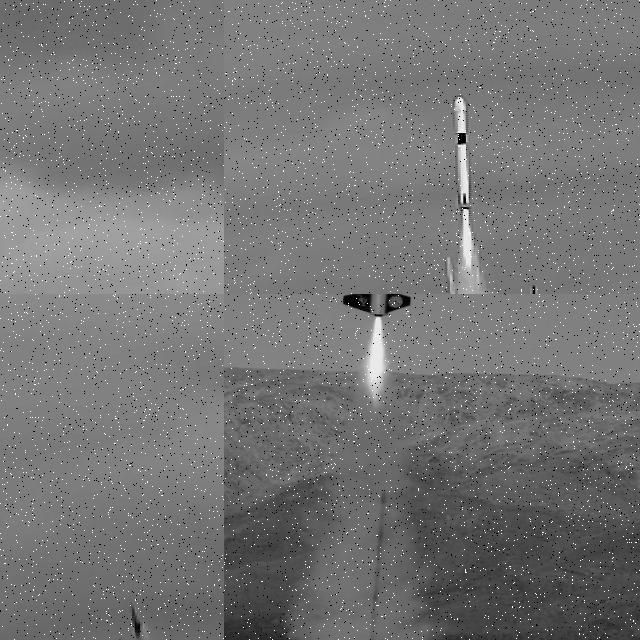Rocket: (451, 94, 473, 210), (130, 603, 164, 640)
